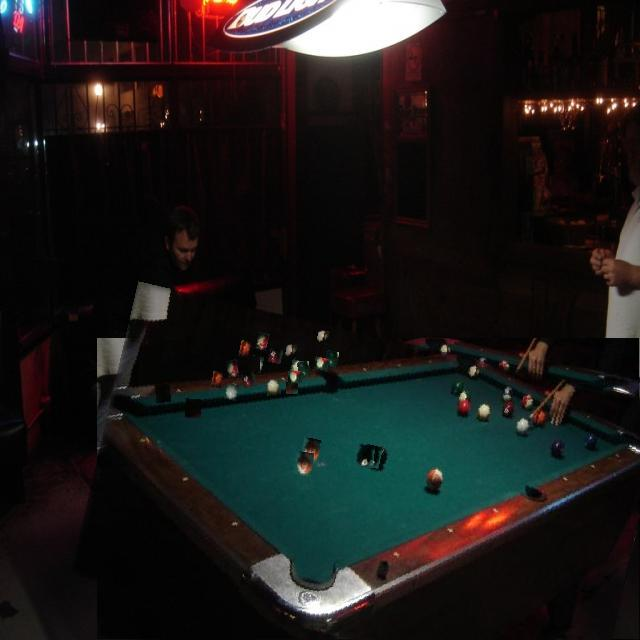Ball: (294, 451, 314, 477), (354, 444, 375, 468), (186, 399, 202, 418), (154, 385, 170, 403), (266, 378, 280, 396), (225, 383, 239, 401), (241, 372, 256, 388), (297, 362, 311, 378), (226, 360, 239, 377), (248, 356, 260, 372), (211, 372, 223, 388), (284, 344, 296, 359), (288, 371, 302, 383), (286, 381, 298, 394)
Billiard table: (84, 309, 640, 640)
